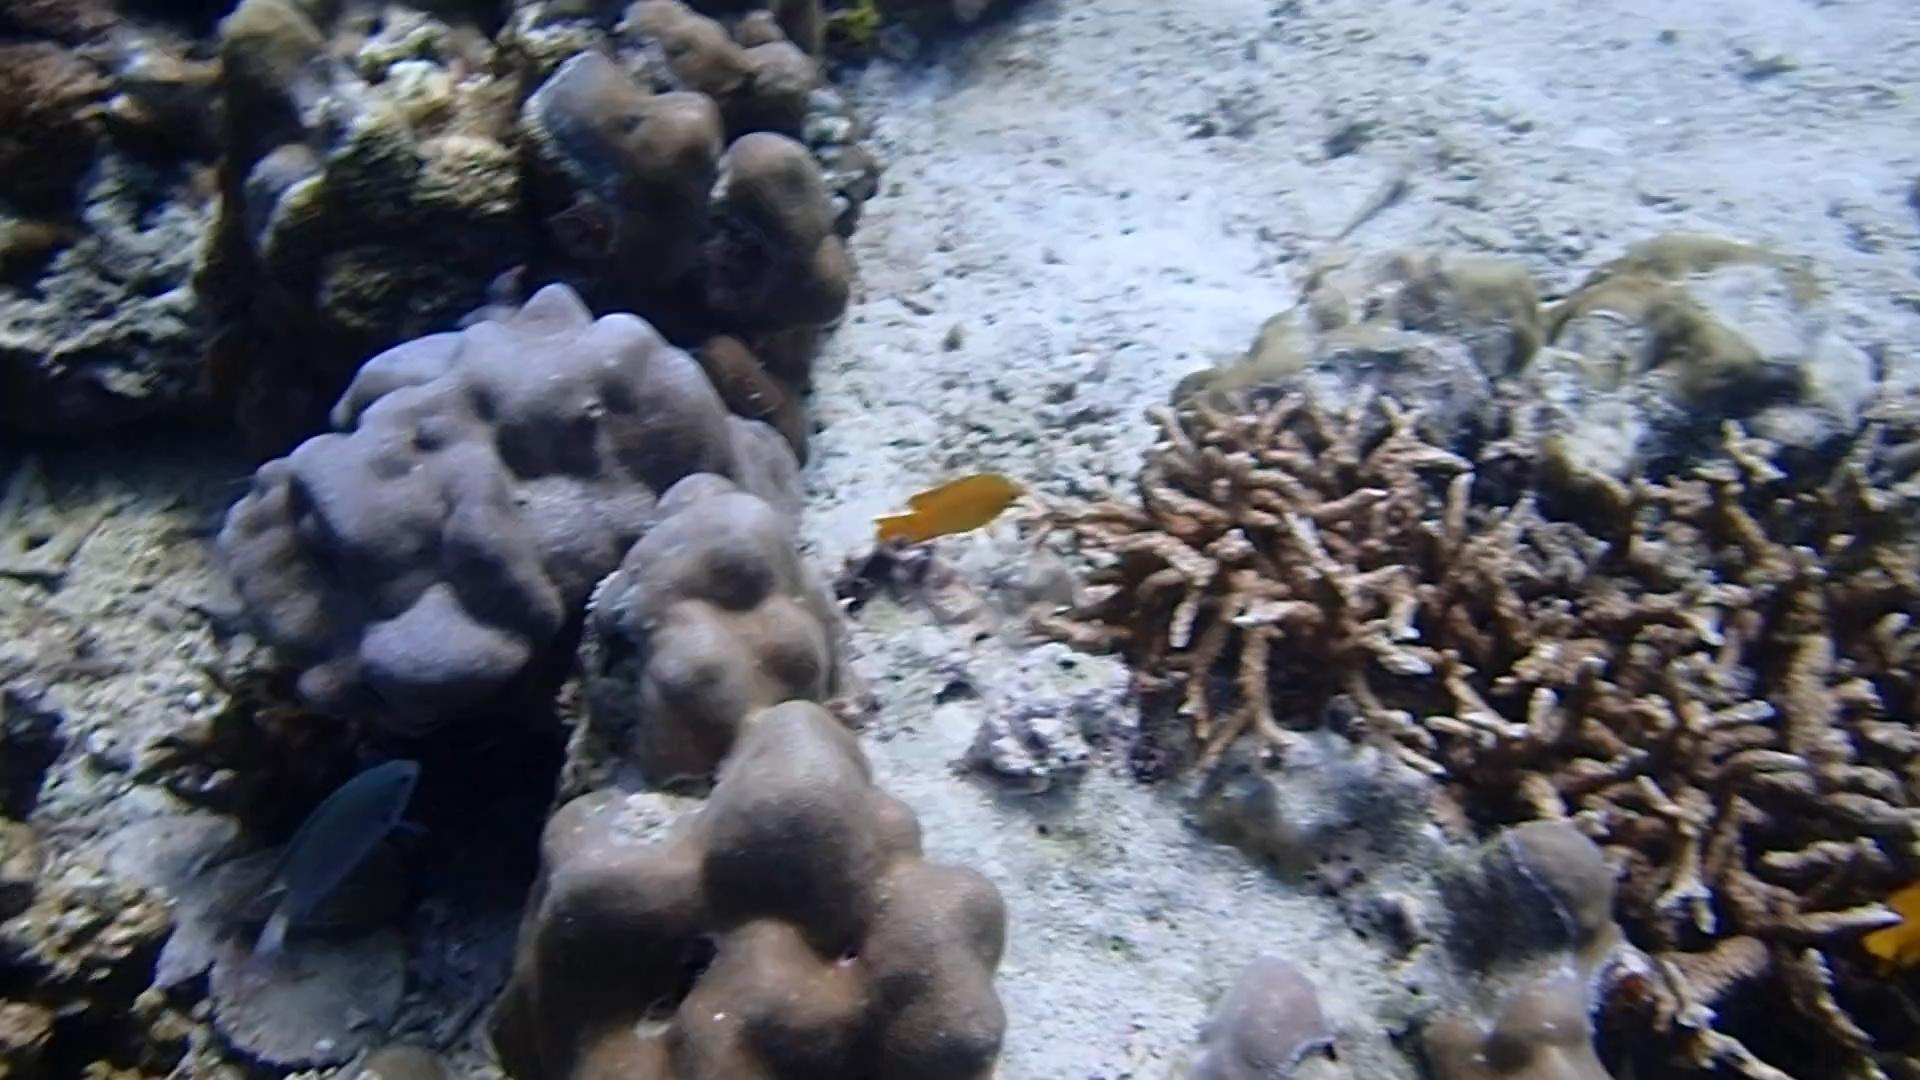Blue Fish Two: (236, 745, 433, 963)
Yellow Fish: (868, 456, 1035, 562)
